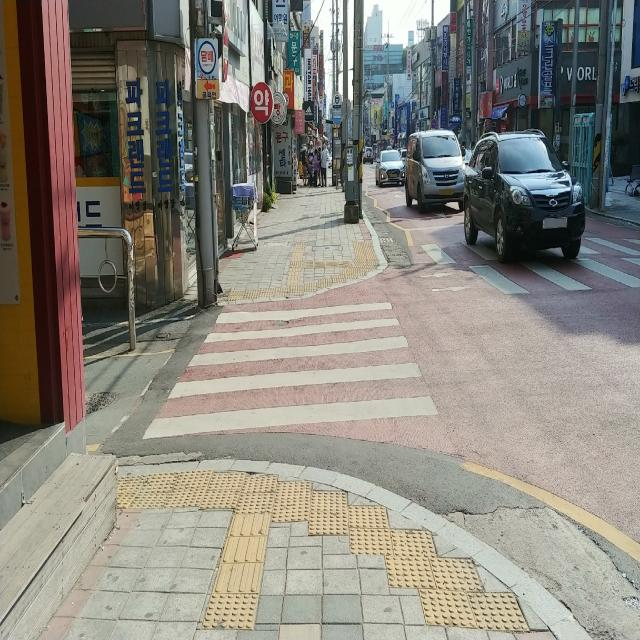횡단보도: (142, 302, 440, 440), (416, 225, 640, 304)
